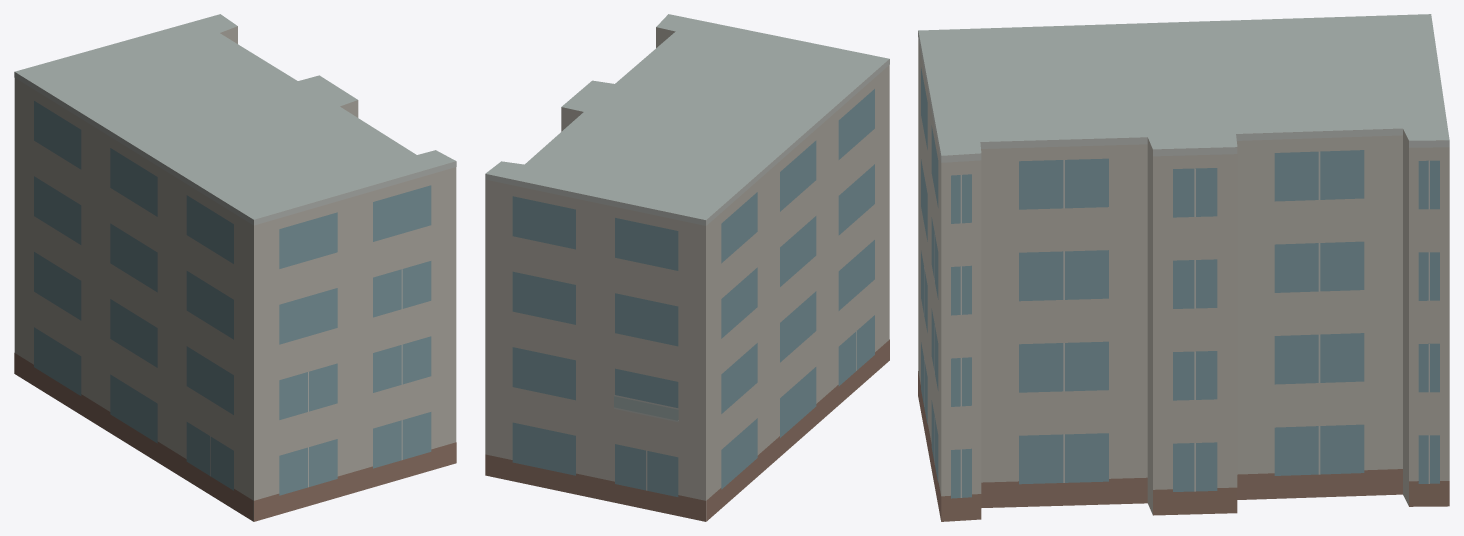
The model's file is survey-upis-32963316.glb.
3 renders of one model, left to right at view 1: azimuth 30°, elevation 25°; view 2: azimuth 150°, elevation 25°; view 3: azimuth 270°, elevation 25°, orthographic. The views are drawn at different scales.
Visible parts, largest first — view 1: survey-upis-32963316.tmp; view 2: survey-upis-32963316.tmp; view 3: survey-upis-32963316.tmp.
Part boxes in pixels (x1,y1,x2,y2): survey-upis-32963316.tmp: [14, 14, 456, 521]; survey-upis-32963316.tmp: [485, 14, 889, 521]; survey-upis-32963316.tmp: [918, 14, 1449, 521].
Size of the model in its own units: 10.6 by 12.75 by 16.78.
